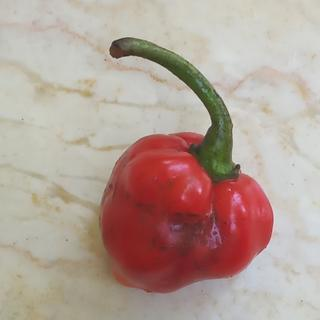Grade-B: (100, 125, 277, 298)
